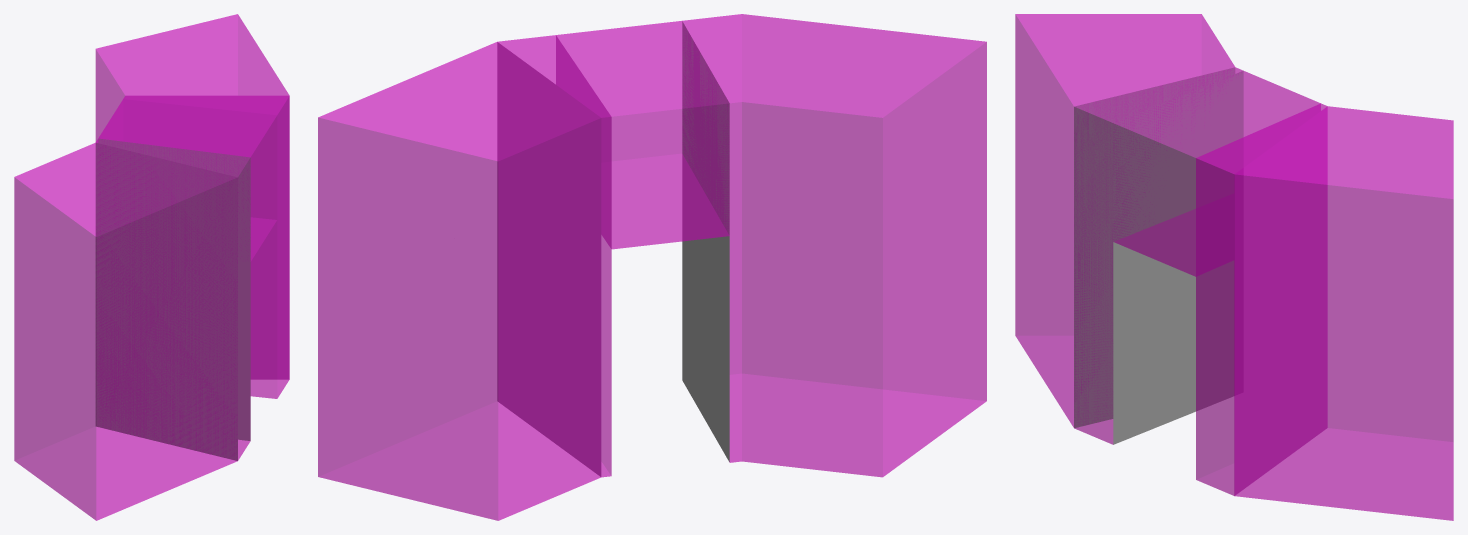
Rendered from SM_Bld_Wall_L_Curve_Door_03_Collision.fbx.
3 views of the same model, side by side, from view 1: azimuth 30°, elevation 25°; view 2: azimuth 150°, elevation 25°; view 3: azimuth 270°, elevation 25° (orthographic). The views are drawn at different scales.
Parts seen in each view (by area): view 1: SM_Bld_Wall_L_Curve_Door_03_Collision; view 2: SM_Bld_Wall_L_Curve_Door_03_Collision; view 3: SM_Bld_Wall_L_Curve_Door_03_Collision.
Part boxes in pixels (x1,y1,x2,y2): SM_Bld_Wall_L_Curve_Door_03_Collision: (14,14,289,520); SM_Bld_Wall_L_Curve_Door_03_Collision: (318,14,986,520); SM_Bld_Wall_L_Curve_Door_03_Collision: (1015,14,1453,520).
Size of the model in its own units: 380 by 308 by 380.
